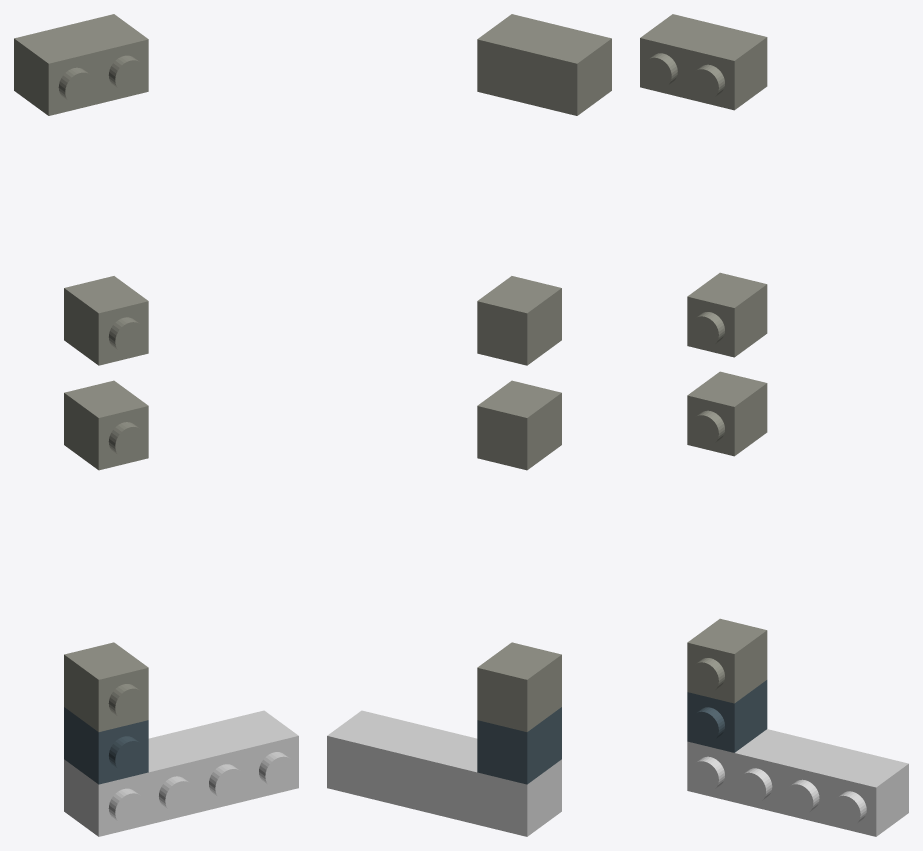
Rendered from current.glb.
3 views of the same model, side by side, from view 1: azimuth 30°, elevation 25°; view 2: azimuth 150°, elevation 25°; view 3: azimuth 330°, elevation 25° (orthographic). The views are drawn at different scales.
Visible parts, largest first — view 1: world; view 2: world; view 3: world.
Part boxes in pixels (bbox=[...]): world: bbox=[14, 14, 298, 836]; world: bbox=[327, 14, 611, 836]; world: bbox=[640, 14, 908, 836].
Bounding box in the file's own units: 40 × 120 × 11.4.
